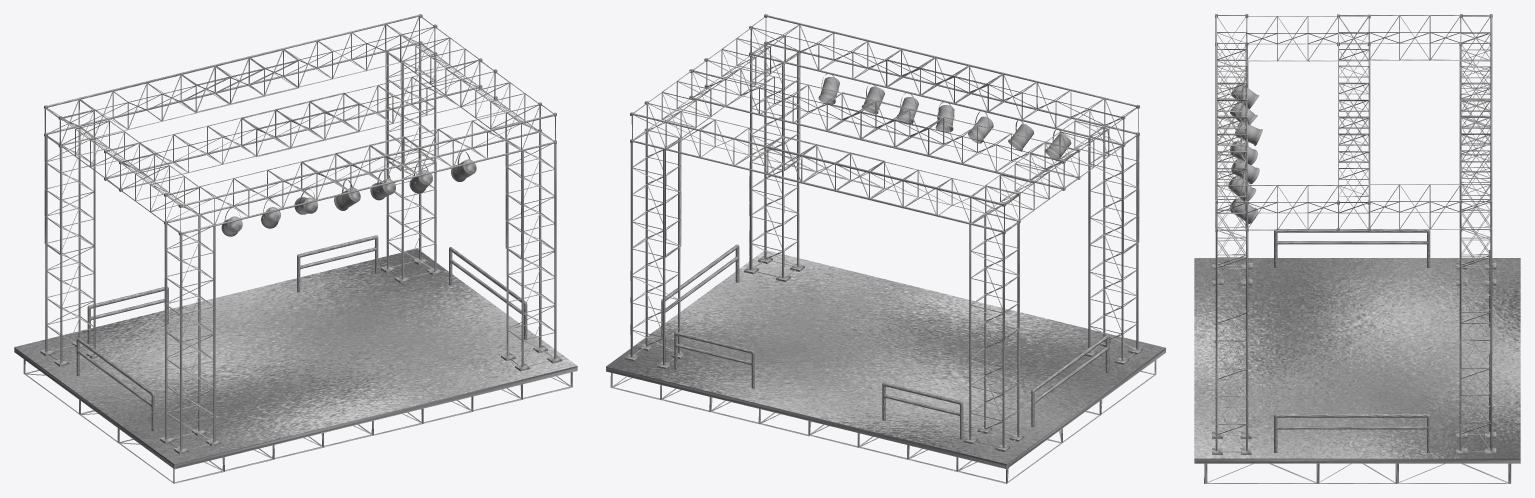
The model's file is stage.fbx.
3 renders of one model, left to right at view 1: azimuth 30°, elevation 25°; view 2: azimuth 150°, elevation 25°; view 3: azimuth 270°, elevation 25°, orthographic. The views are drawn at different scales.
Parts seen in each view (by area): view 1: default; view 2: default; view 3: default.
Boxes of the visible parts, bbox=[...] form: default: bbox=[14, 14, 577, 483]; default: bbox=[606, 14, 1165, 483]; default: bbox=[1194, 14, 1520, 483].
Bounding box in the file's own units: 0.1939 × 0.1254 × 0.1334.
Materials: 1 (1 with a texture image).
